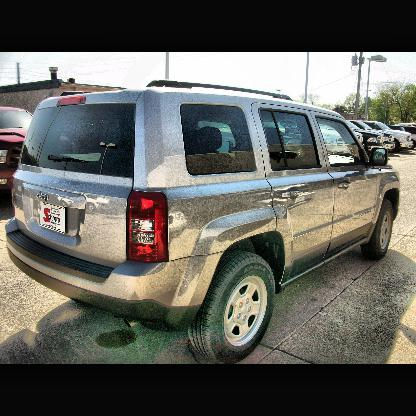Jeep Patriot SUV 2012: (2, 80, 402, 364)
